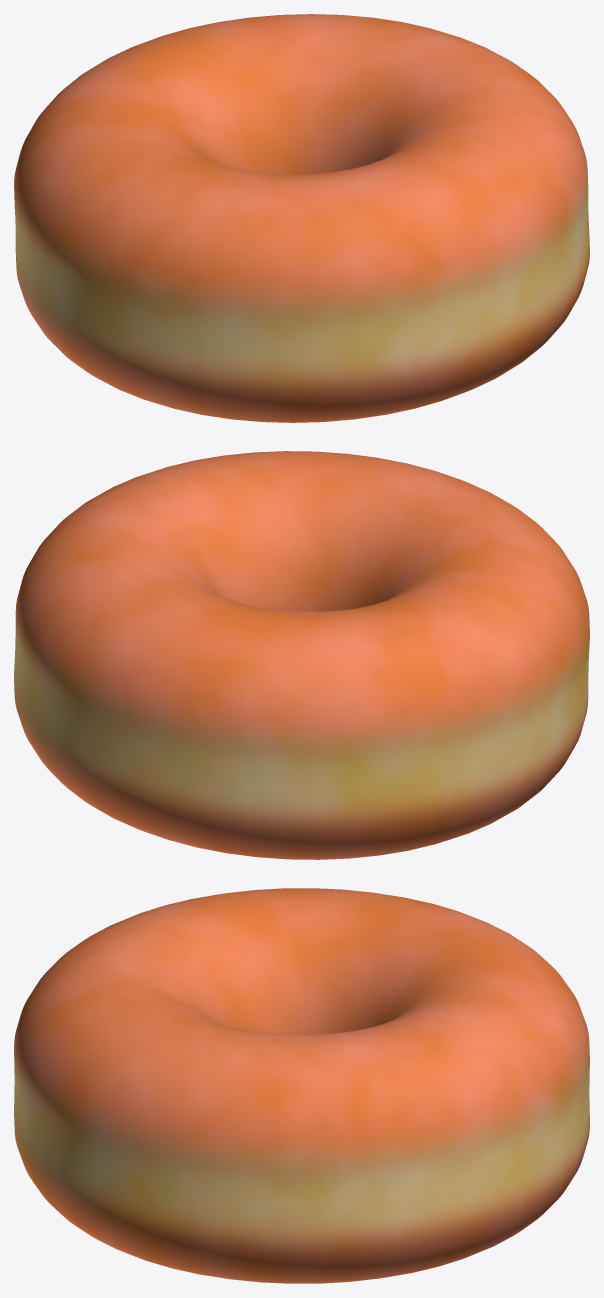
The model's file is origin_doughnut.glb.
3 views of the same model, one above another, from view 1: azimuth 30°, elevation 25°; view 2: azimuth 150°, elevation 25°; view 3: azimuth 270°, elevation 25° (orthographic).
Parts seen in each view (by area): view 1: Object_4; view 2: Object_4; view 3: Object_4.
Boxes of the visible parts, <box> form: Object_4: <box>14,14,589,422</box>; Object_4: <box>14,451,589,859</box>; Object_4: <box>14,888,589,1283</box>.
Bounding box in the file's own units: 0.8653 × 0.3906 × 0.8626.
1 material, 1 textured.
